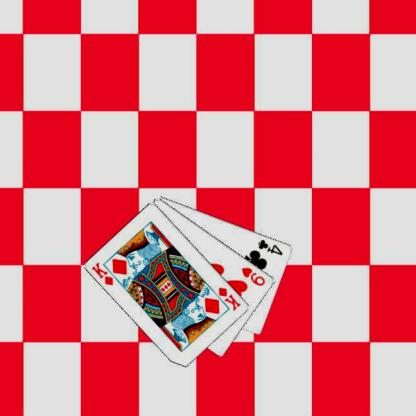4C: (256, 237, 284, 256)
9H: (239, 264, 266, 287)
KD: (216, 284, 242, 312), (89, 259, 115, 287)
